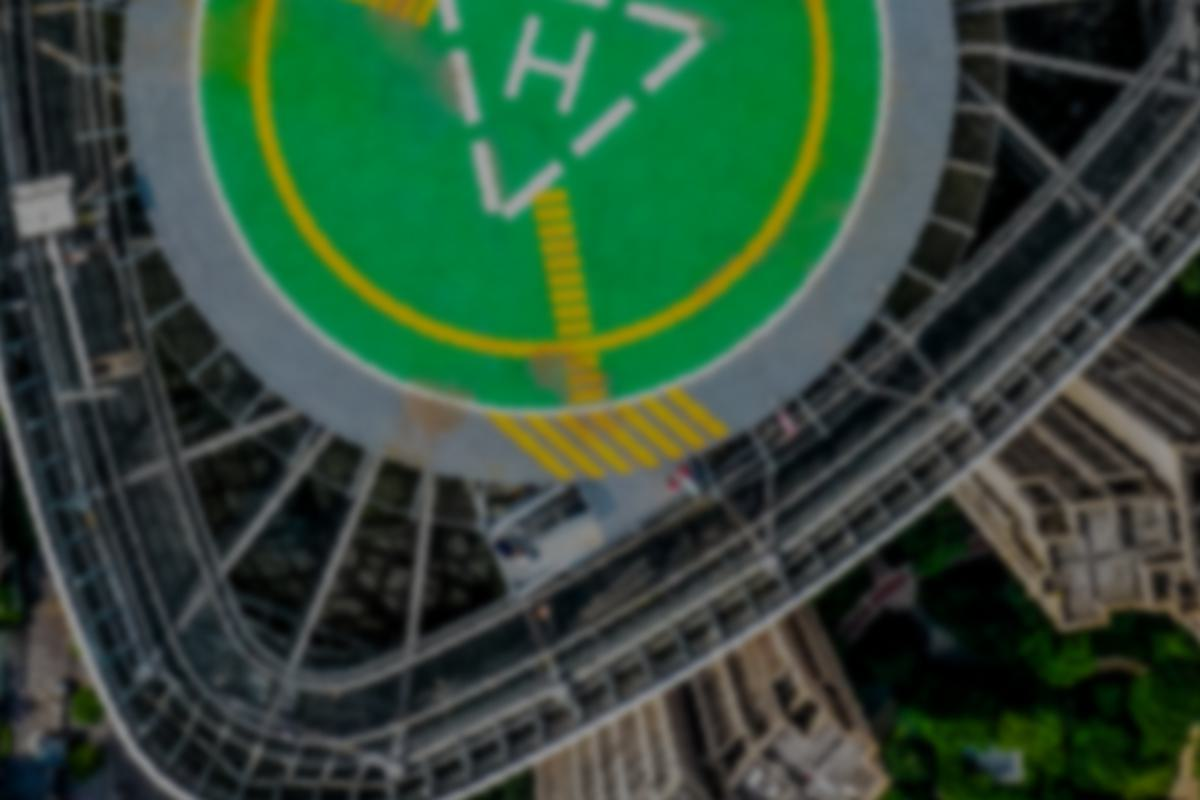Apron: (269, 1, 746, 326)
